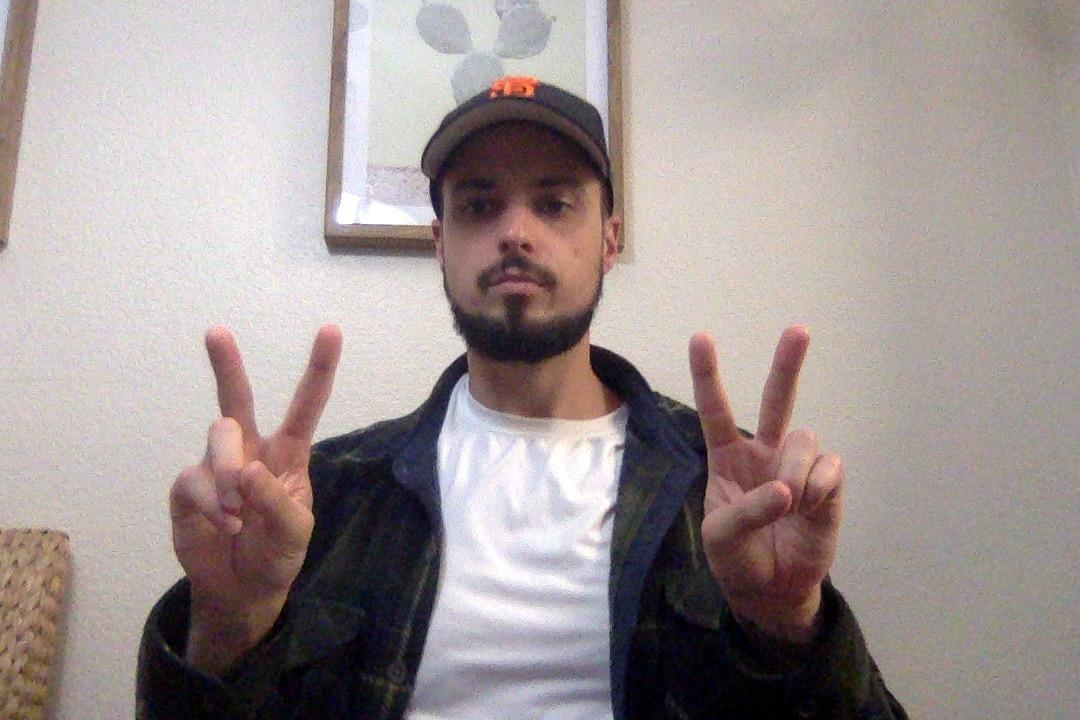Peace: (677, 310, 856, 631), (165, 318, 349, 627)
